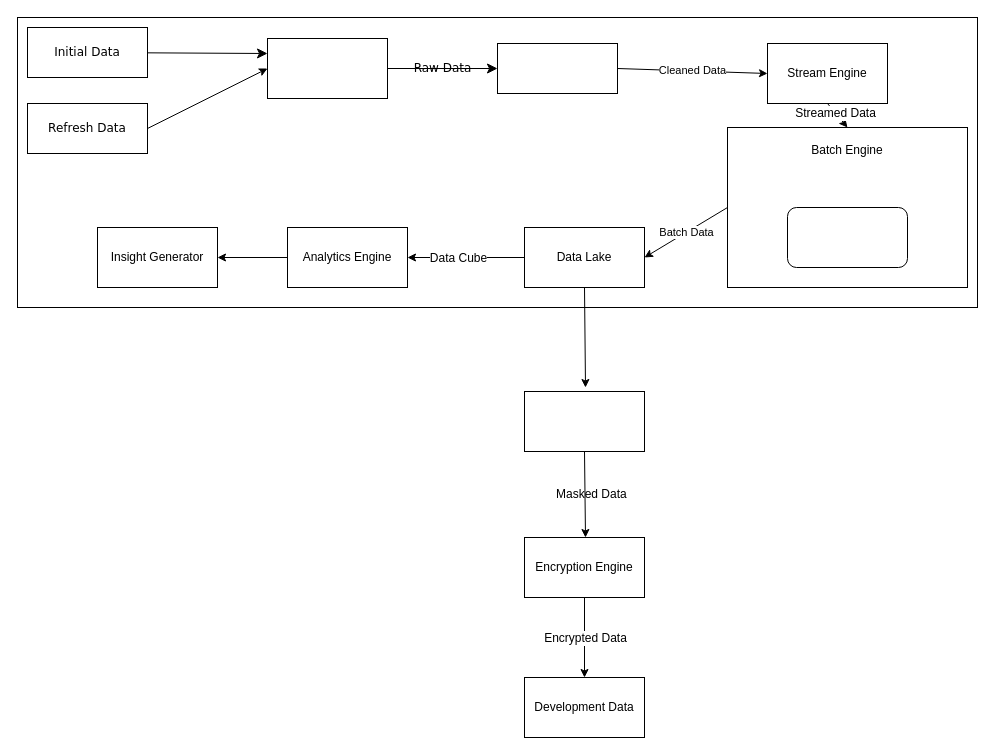
This 995x755 diagram has some shape labels left out. The shapes that lost their labels are listed below. From the top down, each one's box as (x1, y1, x2, y2) in pixels, then its label:
(266, 38, 388, 98): Raw Data Repository
(496, 42, 618, 94): Rudiment Data Clean
(16, 16, 978, 308): Product Data
(786, 206, 908, 268): Version Control
(524, 390, 644, 452): Data Mask Engine
